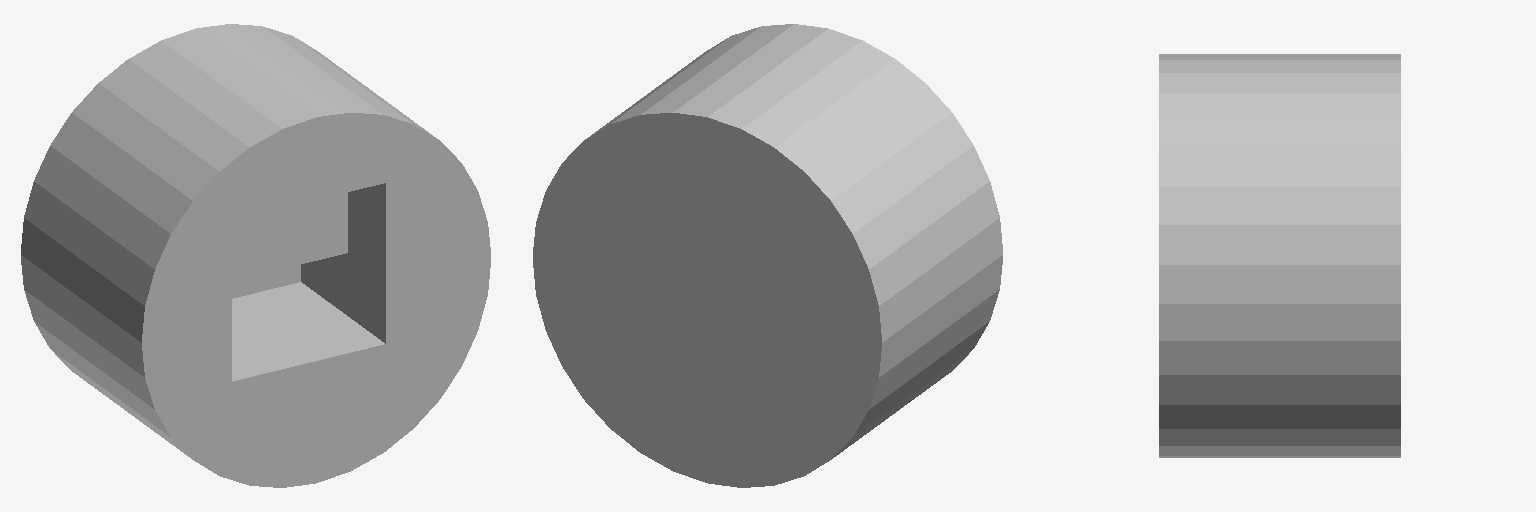
The model's file is l_short.obj.
3 renders of one model, left to right at view 1: azimuth 30°, elevation 25°; view 2: azimuth 150°, elevation 25°; view 3: azimuth 270°, elevation 25°, orthographic.
Visible parts, largest first — view 1: slot_l_short_slot_l_short.001; view 2: slot_l_short_slot_l_short.001; view 3: slot_l_short_slot_l_short.001.
Part boxes in pixels (x1,y1,x2,y2): slot_l_short_slot_l_short.001: (21,24,490,487); slot_l_short_slot_l_short.001: (533,24,1002,487); slot_l_short_slot_l_short.001: (1159,54,1400,457).
Bounding box in the file's own units: 0.05 × 0.05 × 0.03.